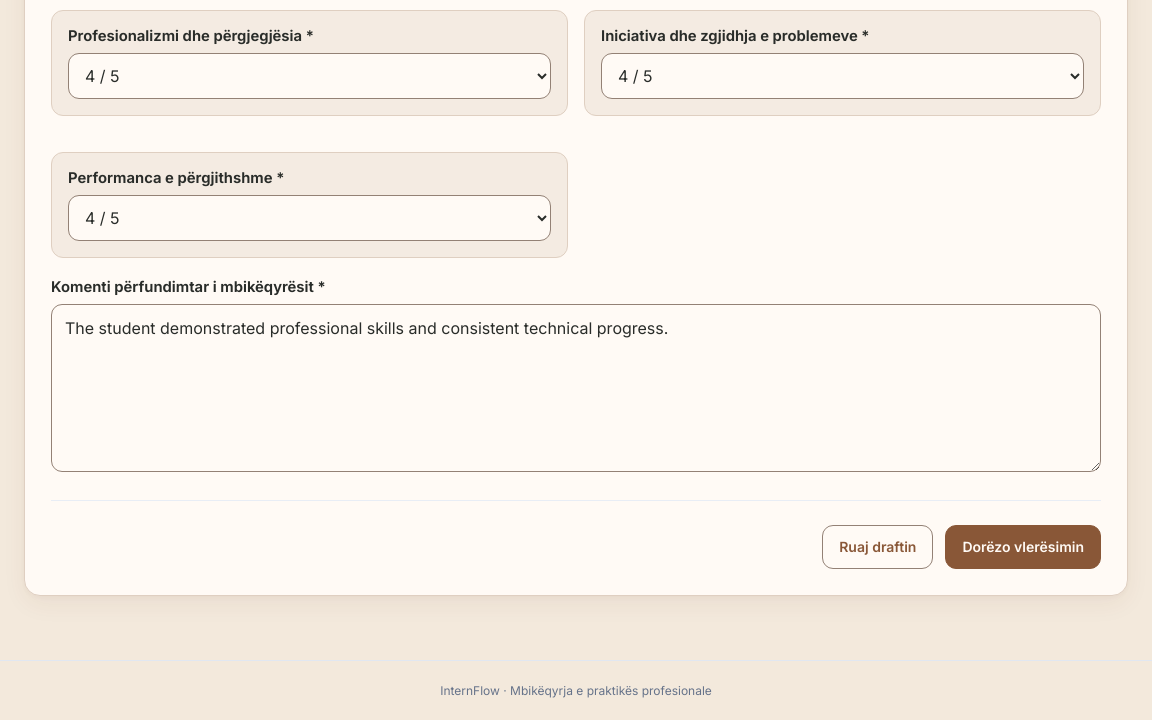
Test: confirms submission once, becomes read-only and states internship remains active
This screenshot has width=1152, height=720.
(page scrolled)
Click the button "Dorëzo vlerësimin" at (1023, 547), box top-left (945, 525), bottom-right (1101, 569)
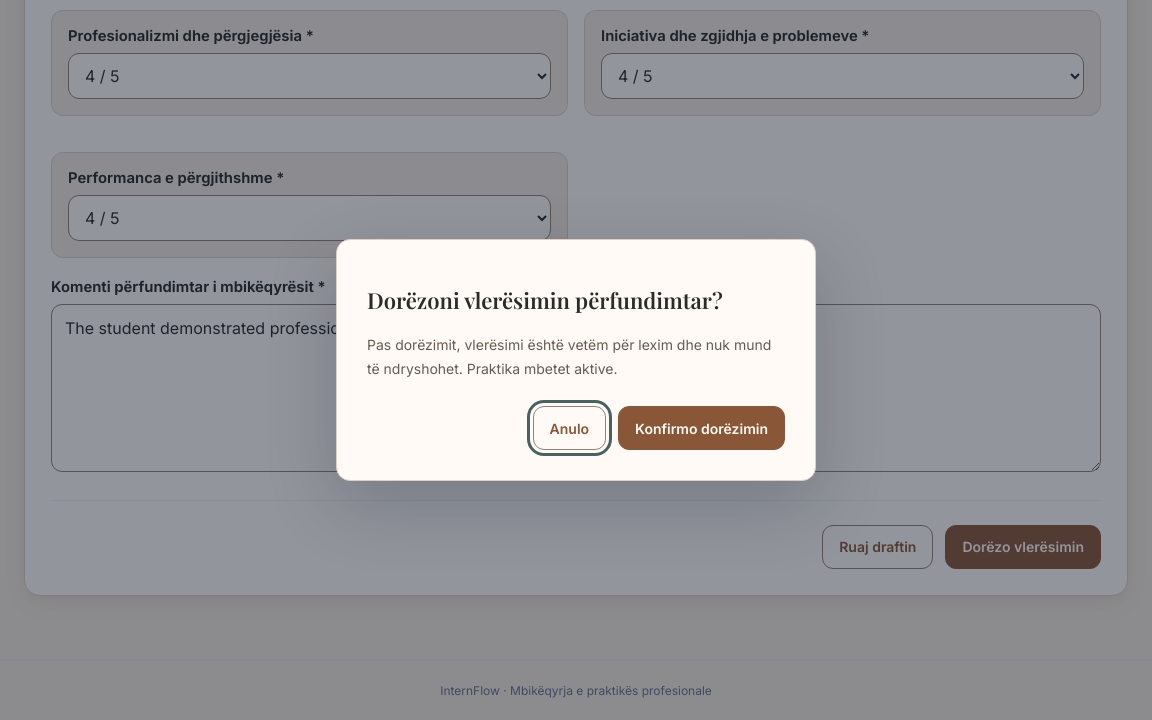
Click the button "Konfirmo dorëzimin" at (702, 428), box top-left (618, 406), bottom-right (785, 450)
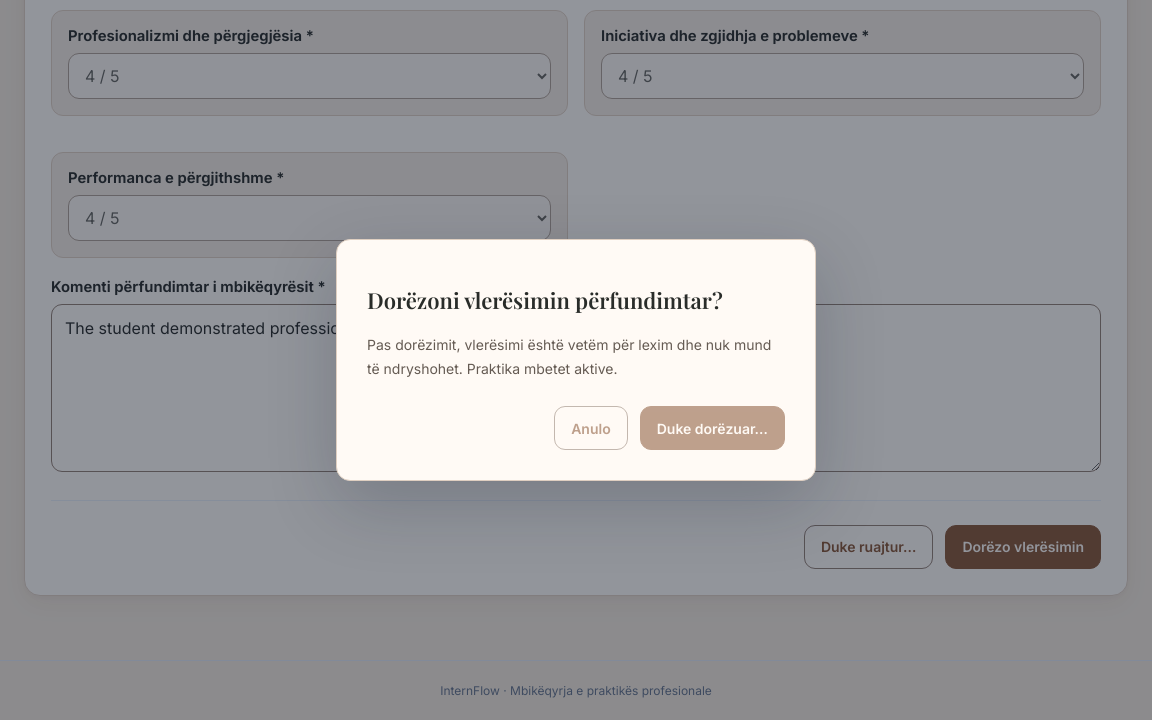
Click the button "Duke dorëzuar…" at (712, 428), box top-left (640, 406), bottom-right (785, 450)
(page scrolled)
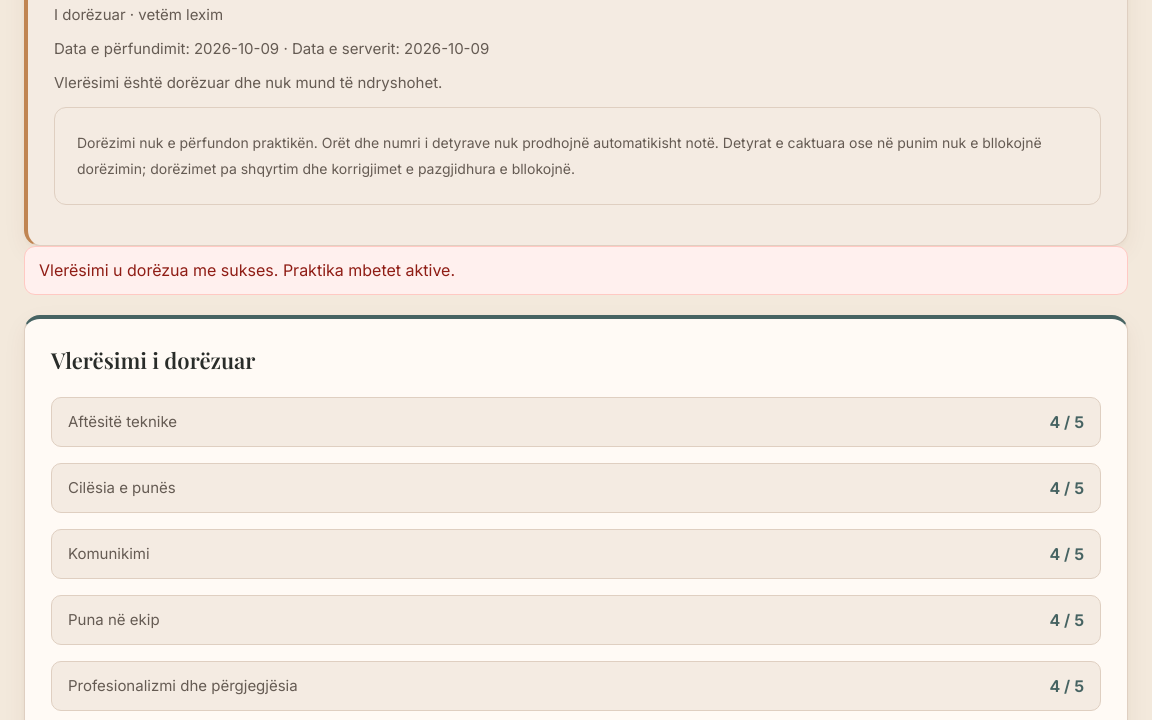
Expected: the text "Vlerësimi u dorëzua me sukses. Praktika mbetet aktive." is shown, top-left (24, 246), bottom-right (1128, 295)
Expected: the heading "Vlerësimi i dorëzuar" is shown, top-left (51, 345), bottom-right (255, 375)
Expected: the dropdown is gone
